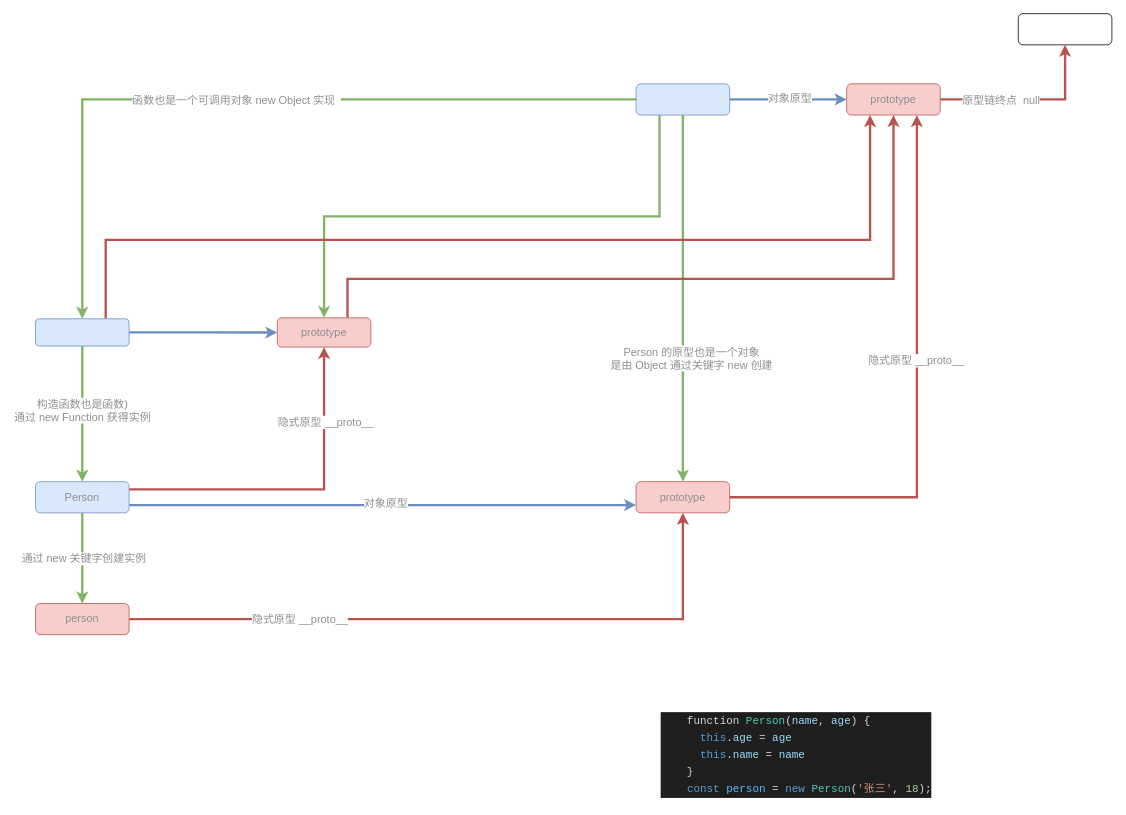
This 1126x815 diagram has some shape labels left out. The centre of each missing label's shape, as x and y in pixels:
Function: (x=82, y=332)
null: (x=1065, y=29)
Object: (x=682, y=99)
